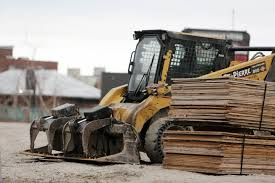bulldozer: (21, 34, 273, 165)
